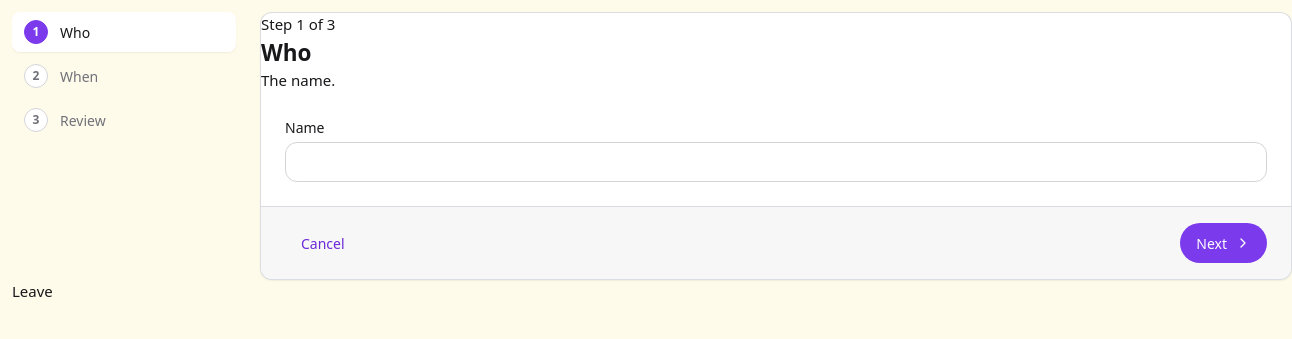
StepForm › keeps the user on a step until its fields are valid
This screenshot has width=1292, height=339.
Click the button "Next" at (1224, 243), box [1180,223,1267,263]
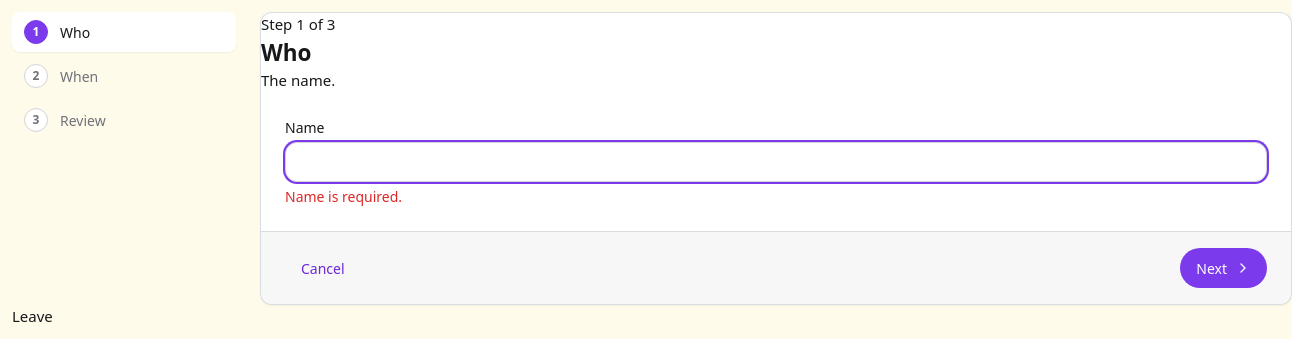
Expected: the heading "Who" is shown, [261,36,312,68]
Result: the text "Name is required." is shown at [285,187,402,206]
